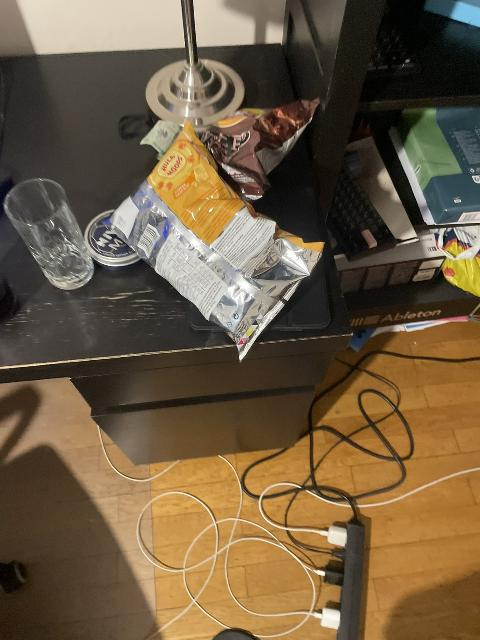Chio Hula Hoops Cheese 70g: (111, 126, 318, 349)
Lays Beef Grilled Ribs 125g: (203, 99, 316, 199)
